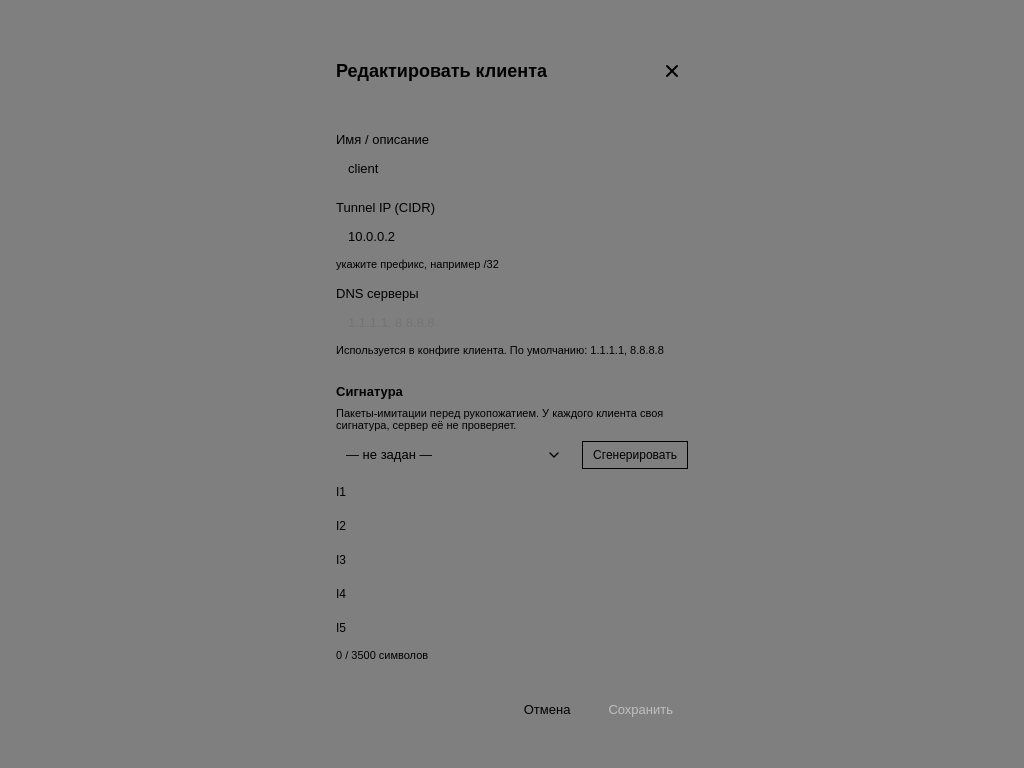
it: EditManagedPeerModal › disables Save and shows an error for a Tunnel IP without a prefix, enables on fix
Expected: the button "Сохранить" is disabled, [593,693,688,725]
Expected: the text with class "is-error" shows "префикс", [336,258,499,270]
Replace the text in the field labelled "Tunnel IP (CIDR)" with "10.0.0.2/32" at point(512, 236), box [336,221,688,252]
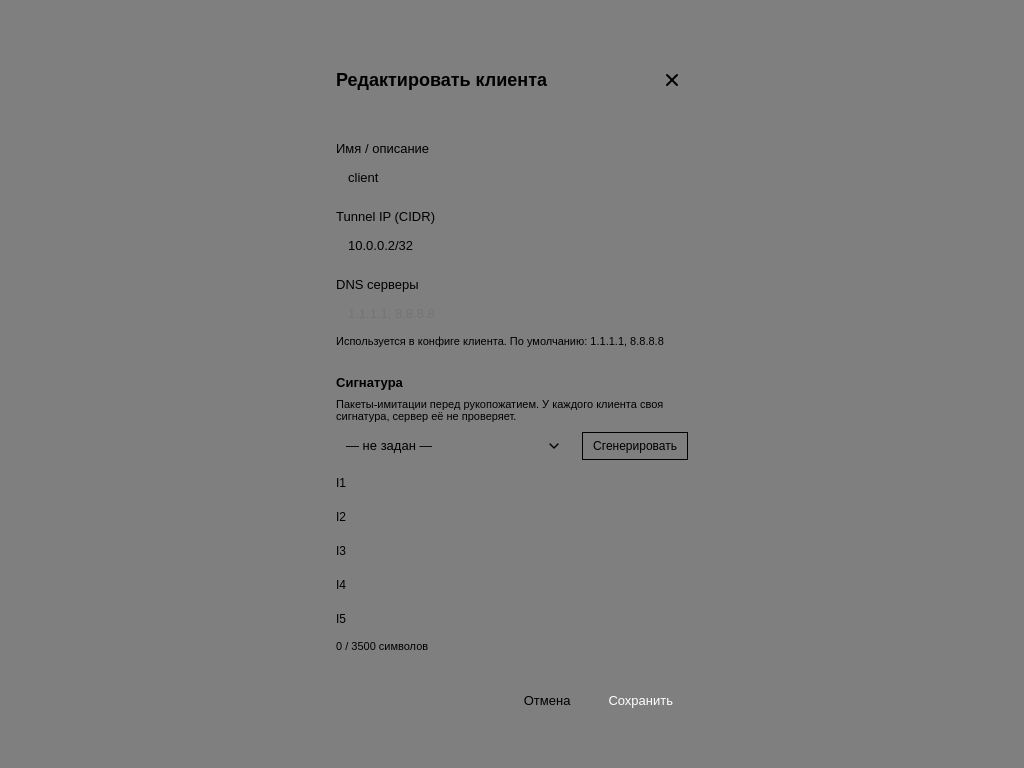
Expected: the button "Сохранить" is enabled, [593,684,688,716]
Expected: the text with class "is-error" is gone
